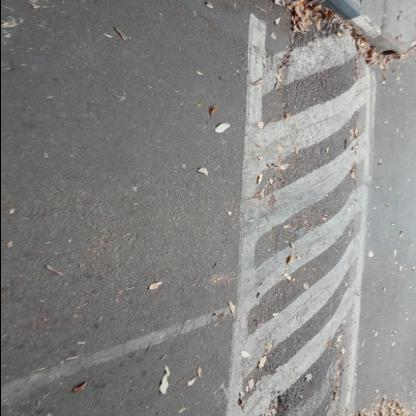speed-bumps: (218, 0, 377, 415)
